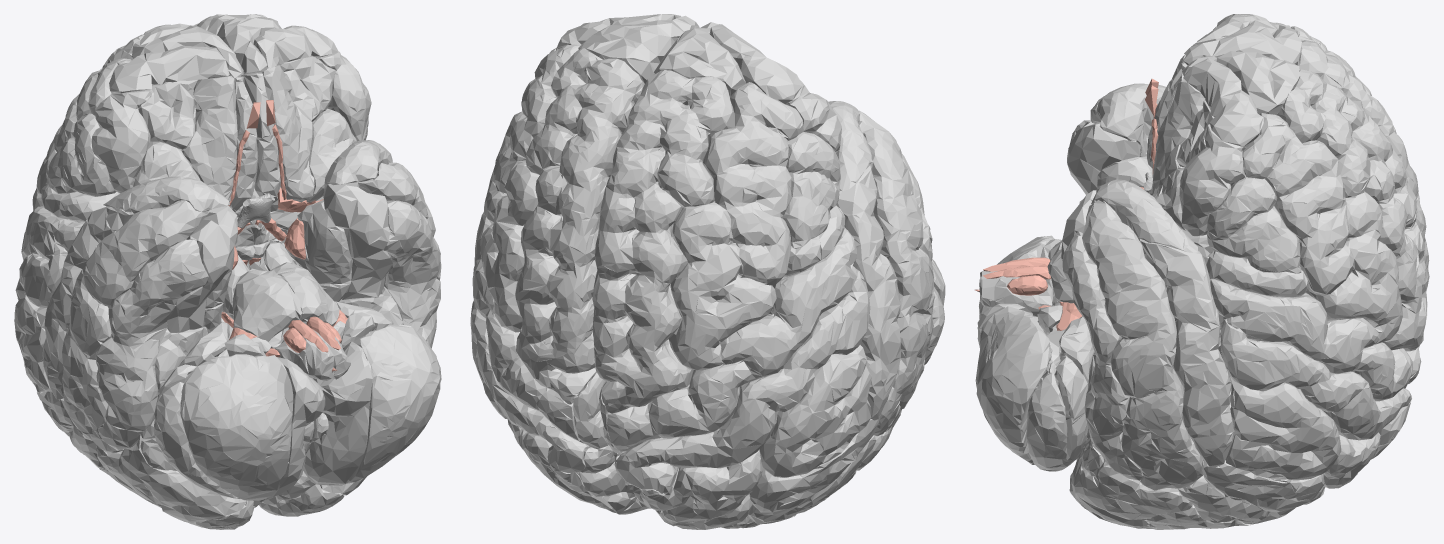
Rendered from brain-male.glb.
3 renders of one model, left to right at view 1: azimuth 30°, elevation 25°; view 2: azimuth 150°, elevation 25°; view 3: azimuth 270°, elevation 25°, orthographic. The views are drawn at different scales.
Visible parts, largest first — view 1: Allen_lateral_hemisphere_of_cerebellum_L, Allen_middle_temporal_gyrus_L, Allen_inferior_temporal_gyrus_L, Allen_lateral_hemisphere_of_cerebellum_R, Allen_paravermis_of_cerebellum_R, Allen_inferior_temporal_gyrus_R, Allen_frontomarginal_gyrus_R, Allen_medial_orbital_gyrus_L, Allen_inferior_occipital_gyrus_L, Allen_superior_temporal_gyrus_L, Allen_lateral_orbital_gyrus_L, Allen_frontomarginal_gyrus_L (+38 smaller); view 2: Allen_superior_frontal_gyrus_L, Allen_superior_frontal_gyrus_R, Allen_middle_frontal_gyrus_L, Allen_primary_motor_cortex_L, Allen_postcentral_gyrus_L, Allen_middle_temporal_gyrus_L, Allen_middle_frontal_gyrus_R, Allen_supramarginal_gyrus_L, Allen_superior_temporal_gyrus_L, Allen_supraparietal_lobule_L, Allen_primary_motor_cortex_R, Allen_inferior_frontal_gyrus_triangular_part_L (+15 smaller); view 3: Allen_middle_frontal_gyrus_R, Allen_middle_temporal_gyrus_R, Allen_lateral_hemisphere_of_cerebellum_R, Allen_superior_frontal_gyrus_R, Allen_primary_motor_cortex_R, Allen_superior_temporal_gyrus_R, Allen_postcentral_gyrus_R, Allen_supramarginal_gyrus_R, Allen_inferior_temporal_gyrus_R, Allen_inferior_frontal_gyrus_triangular_part_R, Allen_angular_gyrus_R, Allen_inferior_occipital_gyrus_R (+24 smaller).
Boxes of the visible parts, x1,y1,x2,y2 form: Allen_lateral_hemisphere_of_cerebellum_L: [154, 321, 293, 500]; Allen_middle_temporal_gyrus_L: [61, 200, 209, 452]; Allen_inferior_temporal_gyrus_L: [96, 239, 208, 449]; Allen_lateral_hemisphere_of_cerebellum_R: [334, 301, 441, 483]; Allen_paravermis_of_cerebellum_R: [303, 341, 372, 485]; Allen_inferior_temporal_gyrus_R: [383, 200, 440, 348]; Allen_frontomarginal_gyrus_R: [323, 182, 392, 299]; Allen_medial_orbital_gyrus_L: [181, 75, 237, 201]; Allen_inferior_occipital_gyrus_L: [97, 436, 246, 522]; Allen_superior_temporal_gyrus_L: [42, 206, 133, 399]; Allen_lateral_orbital_gyrus_L: [91, 89, 151, 193]; Allen_frontomarginal_gyrus_L: [167, 206, 237, 332]; Allen_superior_frontal_gyrus_L: [592, 70, 734, 413]; Allen_superior_frontal_gyrus_R: [515, 48, 644, 404]; Allen_middle_frontal_gyrus_L: [668, 82, 803, 370]; Allen_primary_motor_cortex_L: [607, 227, 857, 451]; Allen_postcentral_gyrus_L: [616, 269, 870, 495]; Allen_middle_temporal_gyrus_L: [858, 110, 934, 435]; Allen_middle_frontal_gyrus_R: [480, 44, 580, 332]; Allen_supramarginal_gyrus_L: [759, 345, 871, 477]; Allen_superior_temporal_gyrus_L: [836, 159, 900, 420]; Allen_supraparietal_lobule_L: [639, 450, 763, 529]; Allen_primary_motor_cortex_R: [472, 212, 584, 443]; Allen_inferior_frontal_gyrus_triangular_part_L: [783, 132, 840, 248]; Allen_middle_frontal_gyrus_R: [1242, 113, 1402, 344]; Allen_middle_temporal_gyrus_R: [1082, 200, 1202, 490]; Allen_lateral_hemisphere_of_cerebellum_R: [975, 304, 1094, 471]; Allen_superior_frontal_gyrus_R: [1277, 69, 1427, 351]; Allen_primary_motor_cortex_R: [1210, 279, 1421, 401]; Allen_superior_temporal_gyrus_R: [1137, 237, 1234, 467]; Allen_postcentral_gyrus_R: [1220, 319, 1411, 445]; Allen_supramarginal_gyrus_R: [1225, 377, 1341, 480]; Allen_inferior_temporal_gyrus_R: [1062, 231, 1143, 480]; Allen_inferior_frontal_gyrus_triangular_part_R: [1207, 175, 1301, 273]; Allen_angular_gyrus_R: [1178, 460, 1324, 523]; Allen_inferior_occipital_gyrus_R: [1069, 449, 1192, 527].
Bounding box in the file's own units: 0.000137 × 0.000167 × 0.000146.
